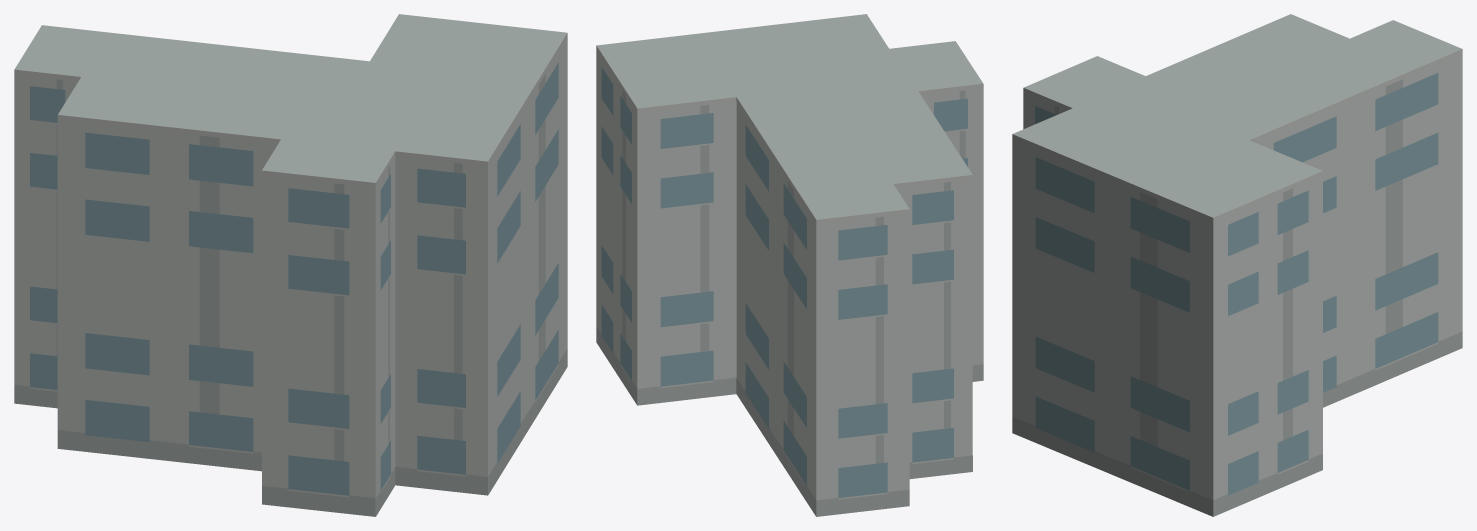
The model's file is residential-2644e76a-51ee-4f90-b41a-dfb38c2bee04.glb.
The picture shows the model from 3 angles, left to right: view 1: azimuth 30°, elevation 25°; view 2: azimuth 150°, elevation 25°; view 3: azimuth 270°, elevation 25°; orthographic projection. The views are drawn at different scales.
Visible parts, largest first — view 1: residential-2644e76a-51ee-4f90-b41a-dfb38c2bee04.tmp; view 2: residential-2644e76a-51ee-4f90-b41a-dfb38c2bee04.tmp; view 3: residential-2644e76a-51ee-4f90-b41a-dfb38c2bee04.tmp.
Boxes of the visible parts, bbox=[...] form: residential-2644e76a-51ee-4f90-b41a-dfb38c2bee04.tmp: bbox=[14, 14, 567, 516]; residential-2644e76a-51ee-4f90-b41a-dfb38c2bee04.tmp: bbox=[596, 14, 983, 516]; residential-2644e76a-51ee-4f90-b41a-dfb38c2bee04.tmp: bbox=[1012, 14, 1462, 516].
Bounding box in the file's own units: 23.4 × 16 × 21.84.
